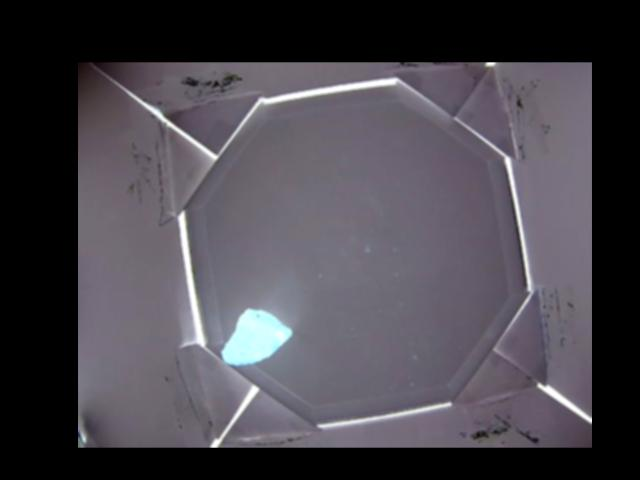Brisk: (219, 308, 293, 365)
